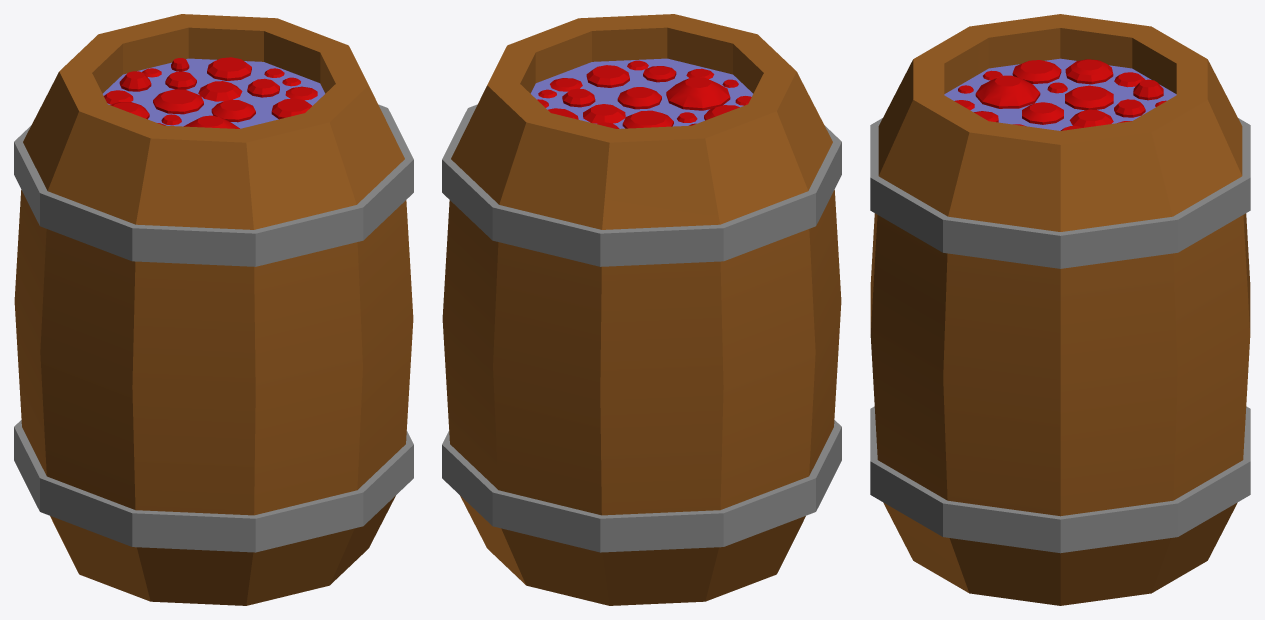
The model's file is Prop_Barrel_Fruit_Water_01.fbx.
3 views of the same model, side by side, from view 1: azimuth 30°, elevation 25°; view 2: azimuth 150°, elevation 25°; view 3: azimuth 270°, elevation 25° (orthographic).
Visible parts, largest first — view 1: Prop_Barrel_Fruit_Water_01; view 2: Prop_Barrel_Fruit_Water_01; view 3: Prop_Barrel_Fruit_Water_01.
Part boxes in pixels (x1,y1,x2,y2): Prop_Barrel_Fruit_Water_01: (14, 14, 413, 605); Prop_Barrel_Fruit_Water_01: (442, 14, 841, 605); Prop_Barrel_Fruit_Water_01: (870, 14, 1250, 605).
Size of the model in its own units: 29.1 by 37 by 27.68.
